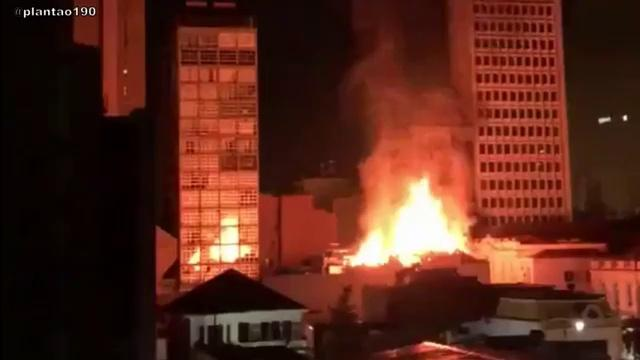fire: (381, 183, 464, 252), (207, 217, 259, 268)
